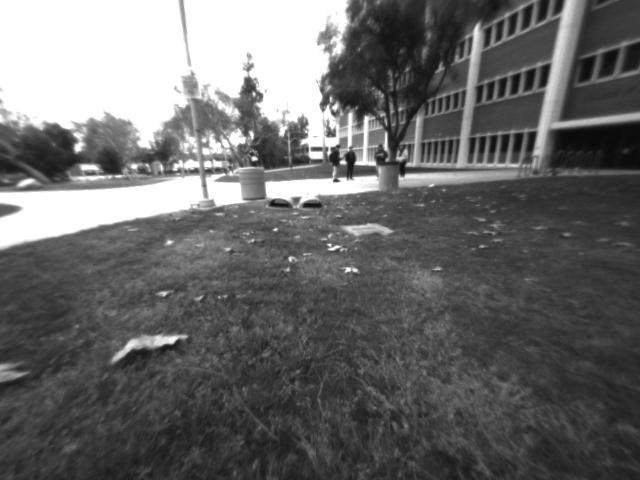trashcan: (238, 163, 273, 201), (377, 161, 396, 198)
